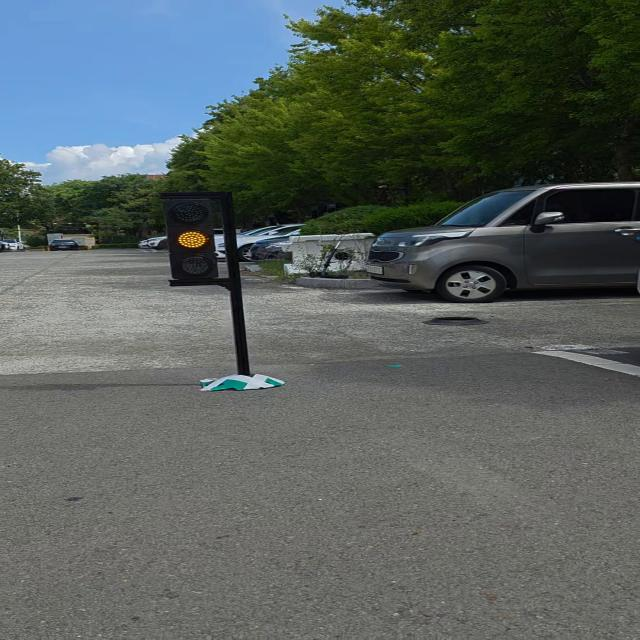yellow: (159, 193, 222, 286)
